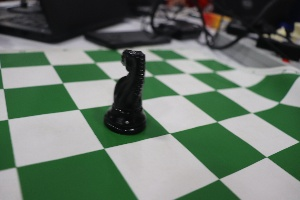black_horse: (97, 33, 152, 141)
